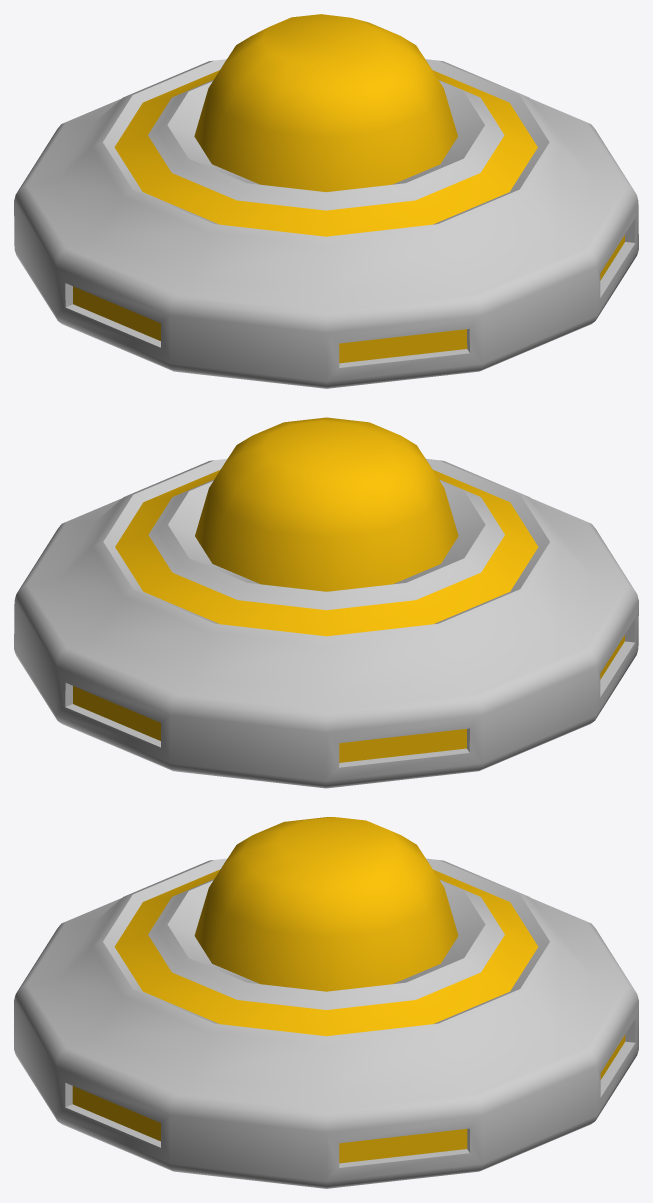
The model's file is Ufo_2.fbx.
3 renders of one model, top to bottom at view 1: azimuth 30°, elevation 25°; view 2: azimuth 150°, elevation 25°; view 3: azimuth 270°, elevation 25°, orthographic.
Visible parts, largest first — view 1: Ufo_2; view 2: Ufo_2; view 3: Ufo_2.
Part boxes in pixels (<box>): Ufo_2: <box>14,14,638,388</box>; Ufo_2: <box>14,417,638,788</box>; Ufo_2: <box>14,817,638,1188</box>.
Size of the model in its own units: 0.849 by 0.355 by 0.8482.
